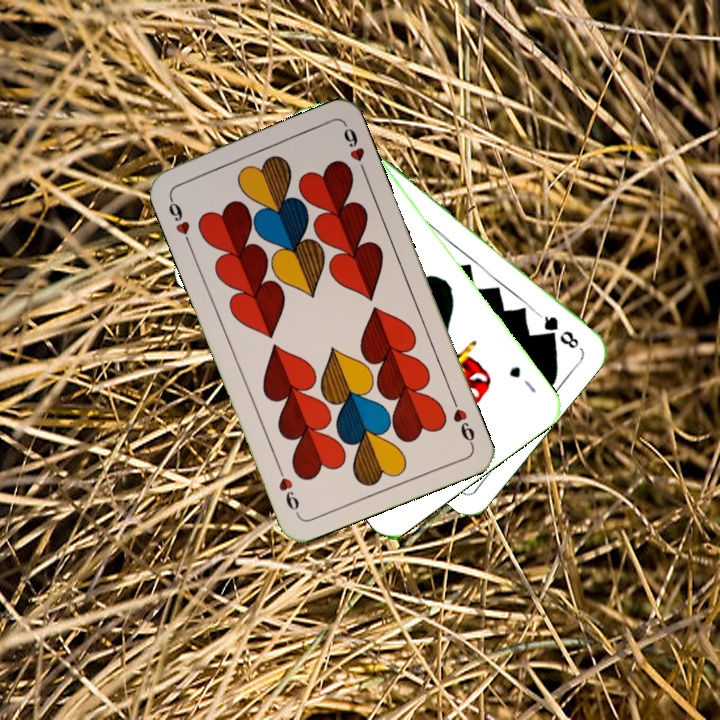G8: (534, 309, 582, 352)
GU: (505, 362, 539, 396)
H9: (447, 392, 478, 448), (164, 191, 194, 248)
